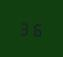six: (31, 20, 42, 37)
three: (19, 19, 30, 36)
